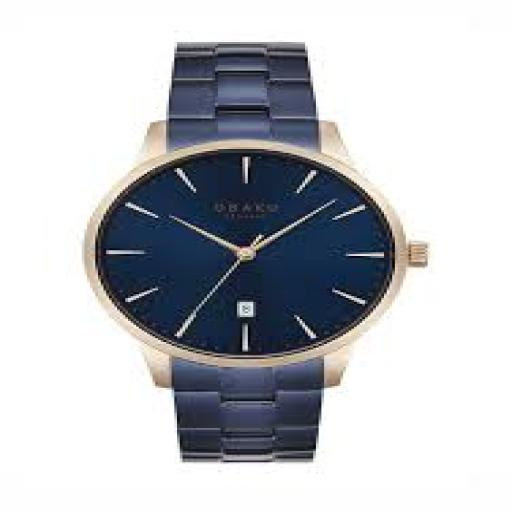KolSaati: (77, 22, 444, 484)
